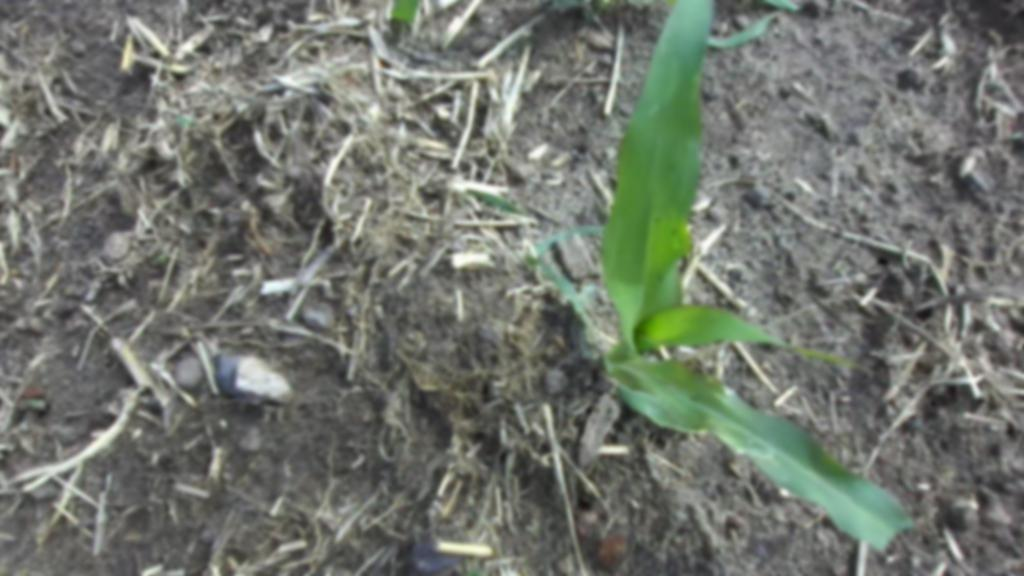BroWeed: (151, 254, 169, 268), (175, 117, 193, 126)
